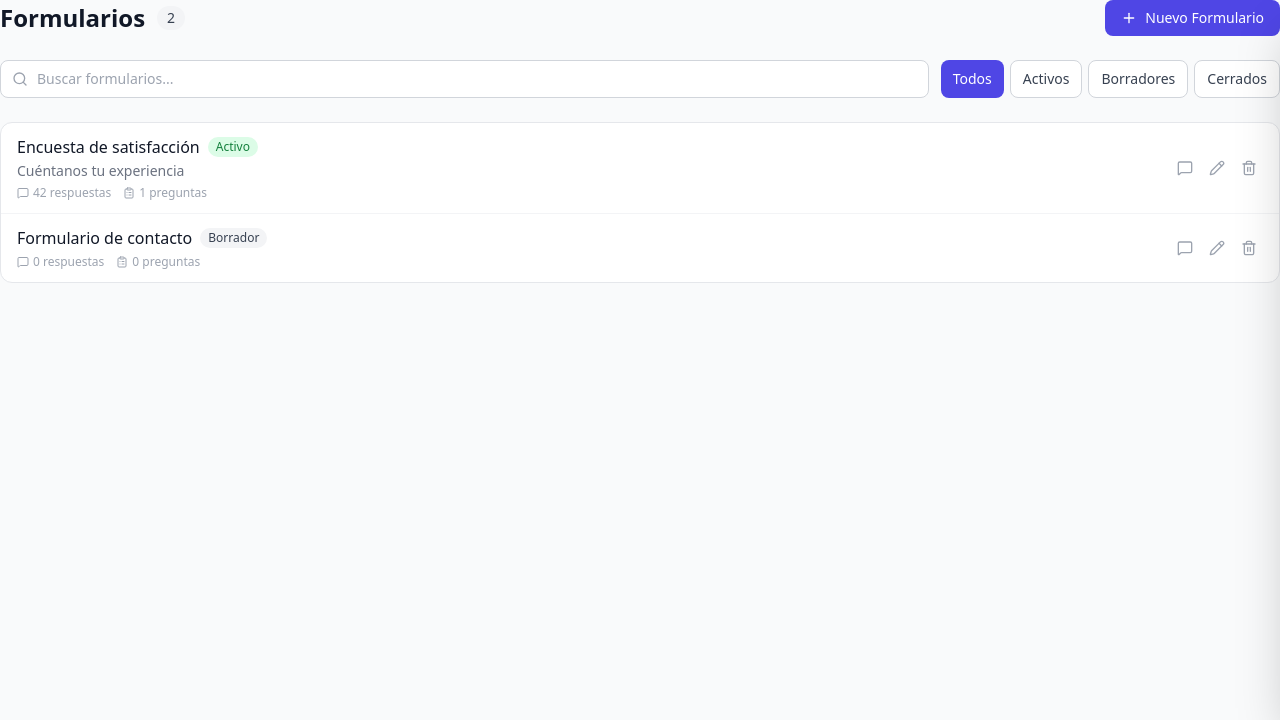
Test case: FormsPage › abre modal de edición al hacer click en el botón editar
This screenshot has width=1280, height=720.
Click the button named "editar" at (1217, 168), box [1203,154,1231,182]
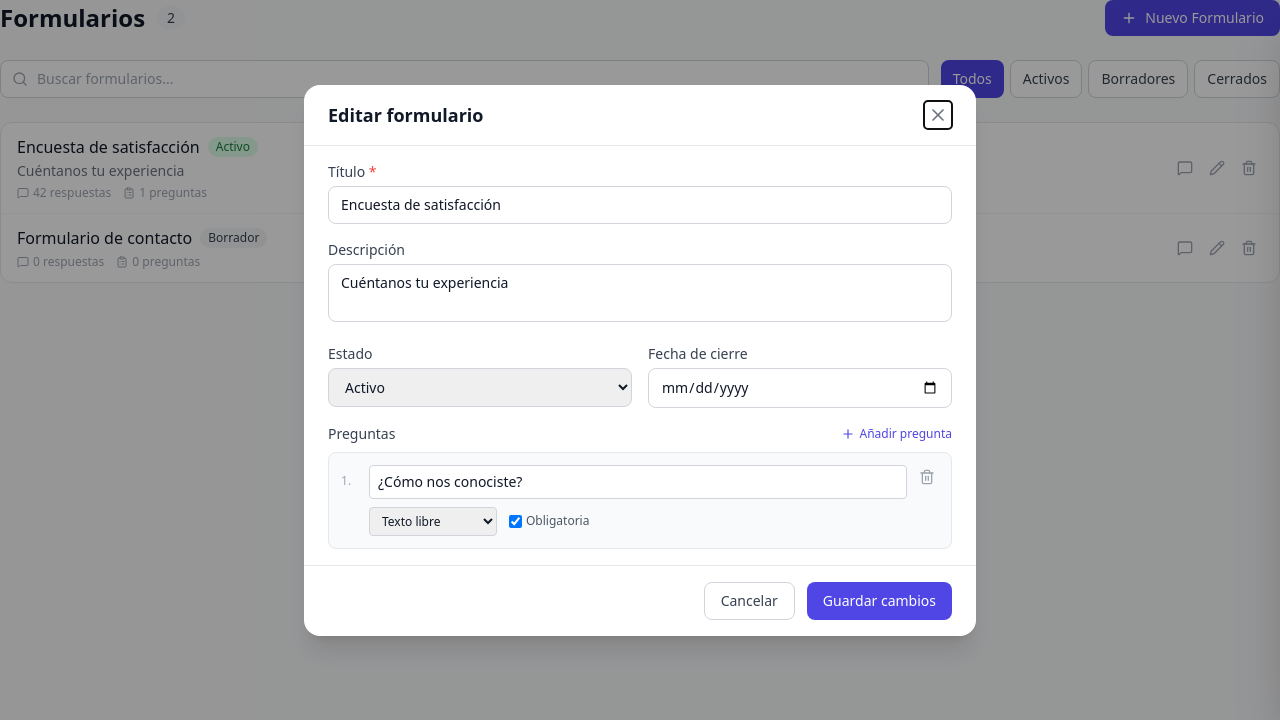
Expected: the dialog is shown, [304,84,976,636]
Expected: the heading "Editar formulario" is shown, [328,100,484,128]
